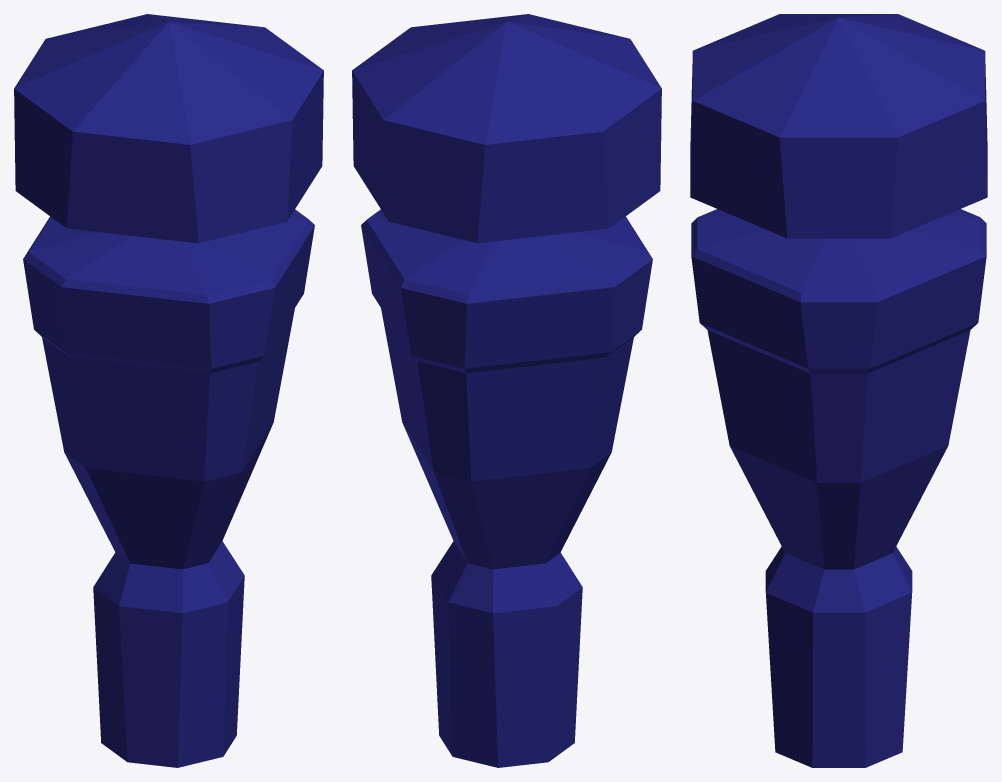
Rendered from stake.fbx.
3 views of the same model, side by side, from view 1: azimuth 30°, elevation 25°; view 2: azimuth 150°, elevation 25°; view 3: azimuth 270°, elevation 25° (orthographic).
Parts seen in each view (by area): view 1: stake; view 2: stake; view 3: stake.
Part boxes in pixels (bbox=[...]): stake: bbox=[14, 14, 323, 767]; stake: bbox=[352, 14, 661, 767]; stake: bbox=[690, 14, 987, 767].
Bounding box in the file's own units: 747 × 2028 × 747.
